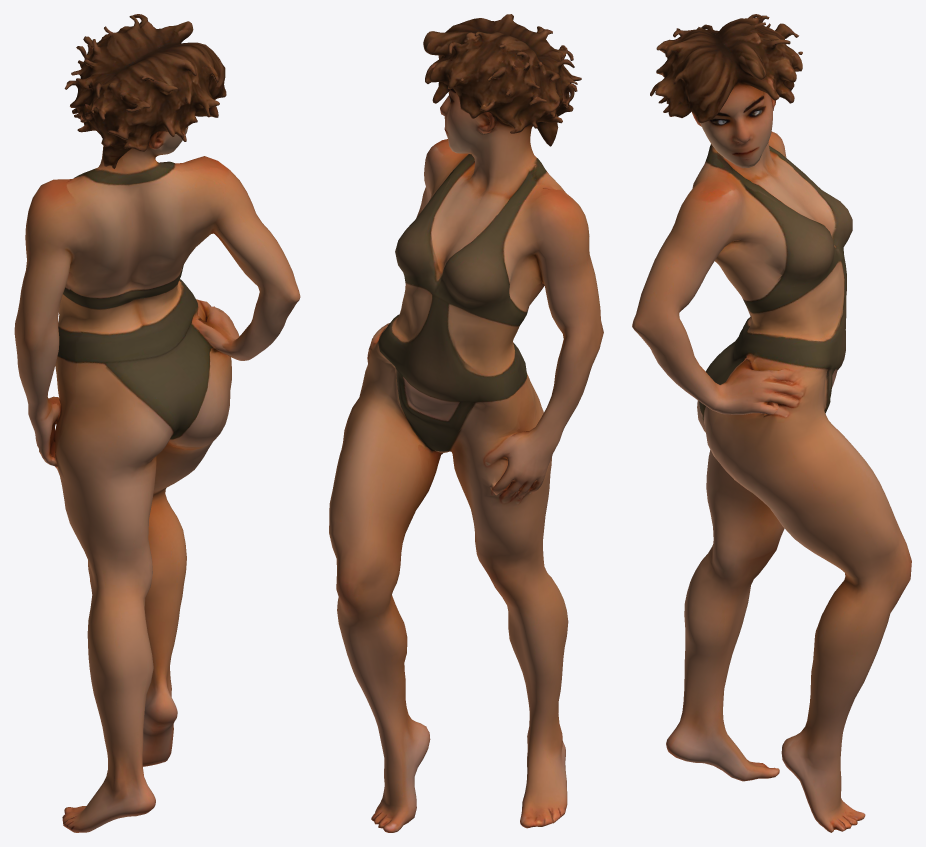
File: female_standing.glb
The picture shows the model from 3 angles, left to right: view 1: azimuth 30°, elevation 25°; view 2: azimuth 150°, elevation 25°; view 3: azimuth 270°, elevation 25°; orthographic projection.
Parts seen in each view (by area): view 1: tripo_node_fe166a6d-890a-4ff4-b5e4-a7097472b013; view 2: tripo_node_fe166a6d-890a-4ff4-b5e4-a7097472b013; view 3: tripo_node_fe166a6d-890a-4ff4-b5e4-a7097472b013.
Part boxes in pixels (box(x1,y1,x2,y2)): tripo_node_fe166a6d-890a-4ff4-b5e4-a7097472b013: box(14, 14, 300, 832); tripo_node_fe166a6d-890a-4ff4-b5e4-a7097472b013: box(329, 14, 603, 832); tripo_node_fe166a6d-890a-4ff4-b5e4-a7097472b013: box(632, 14, 911, 832).
Bounding box in the file's own units: 0.5009 × 1.66 × 0.5389.
Materials: 1 (1 with a texture image).
